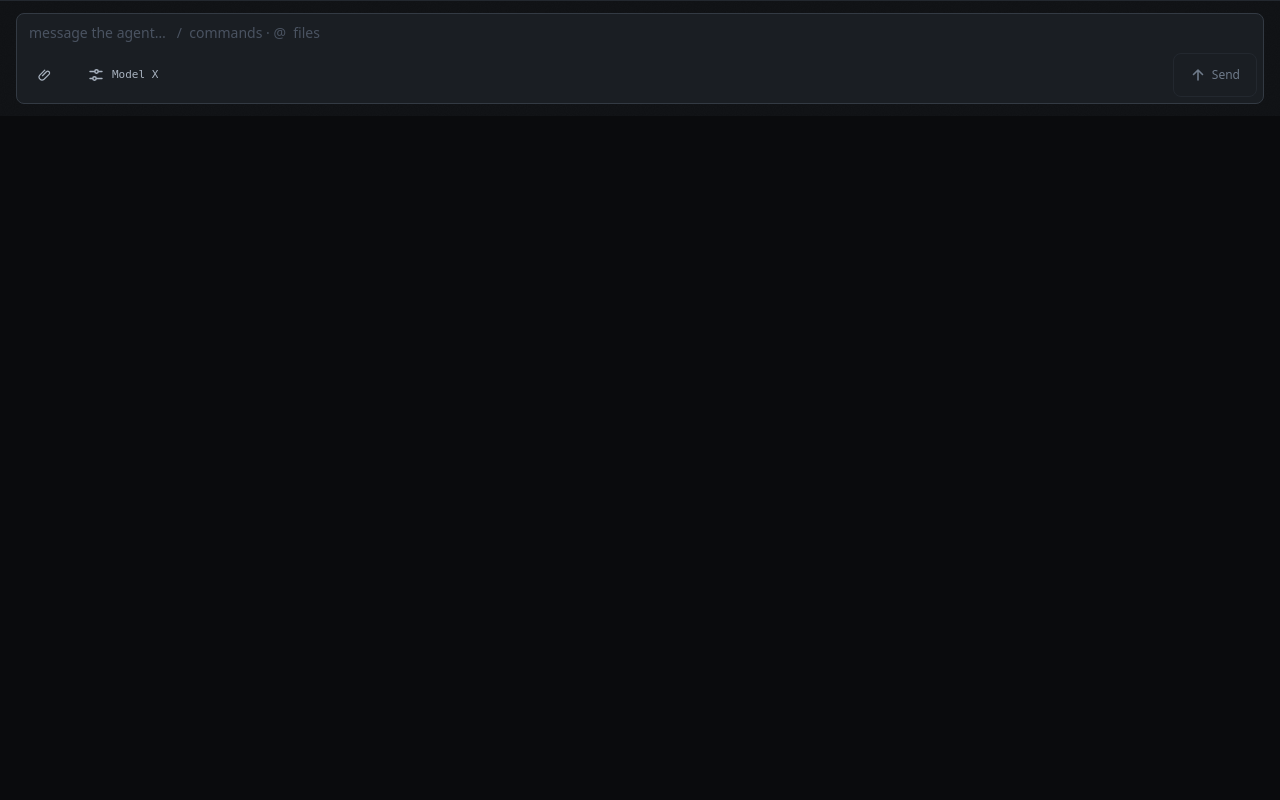
Test: compact Composer › marks the active effort and plan state in the options sheet
Click the button titled "prompt options" at coordinates (135, 74), box x1=79 y1=53 x2=1167 y2=97
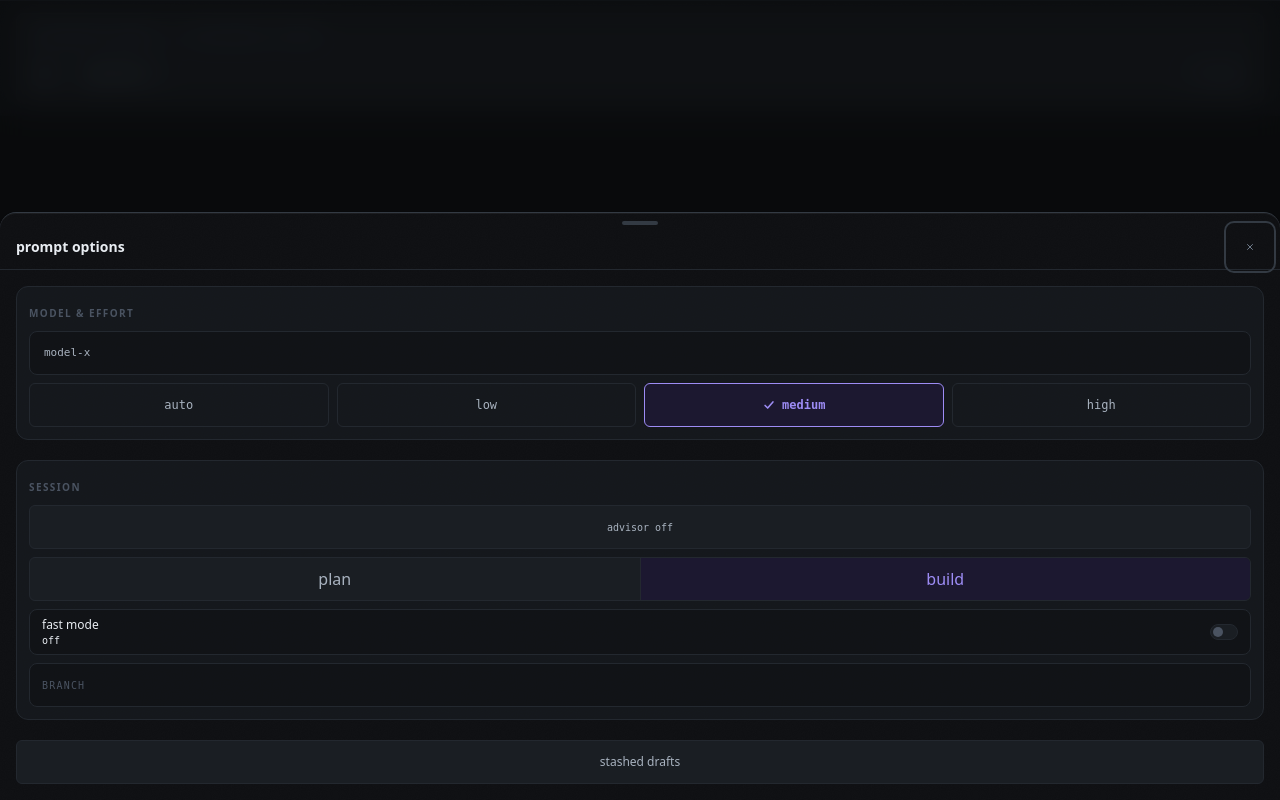
Expected: the element that starts with "model & effort" is shown
Expected: the element showing "advisor off" is shown, x1=29 y1=505 x2=1251 y2=549
